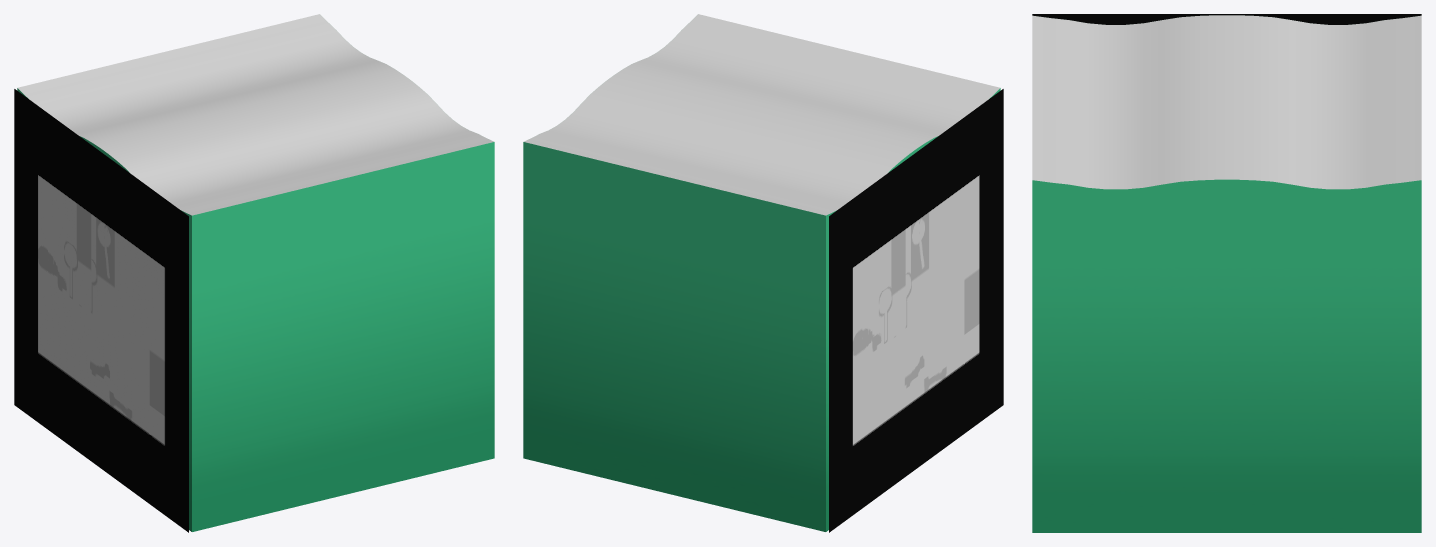
File: SodaOcean.FBX
3 views of the same model, side by side, from view 1: azimuth 30°, elevation 25°; view 2: azimuth 150°, elevation 25°; view 3: azimuth 270°, elevation 25° (orthographic). The views are drawn at different scales.
Parts seen in each view (by area): view 1: Box001, Plane001; view 2: Box001, Plane001; view 3: Box001, Plane001.
Boxes of the visible parts, x1,y1,x2,y2 form: Box001: (17,14,494,531); Plane001: (14,89,188,532); Box001: (523,14,1000,531); Plane001: (829,89,1003,532); Box001: (1032,15,1421,532); Plane001: (1032,14,1421,24).
Bounding box in the file's own units: 101 × 100 × 100.
